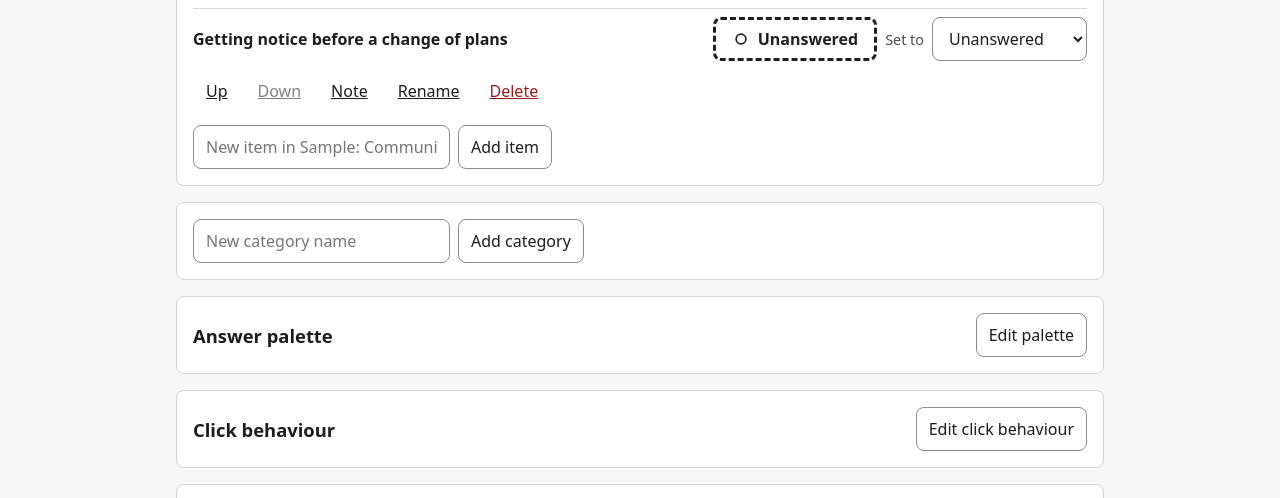
Test: renaming and restyling (I-03) › fixes the meaning of a built-in state
This screenshot has width=1280, height=498.
(page scrolled)
Click the button "Edit palette": [1031, 335] box [976,313,1087,357]
(page scrolled)
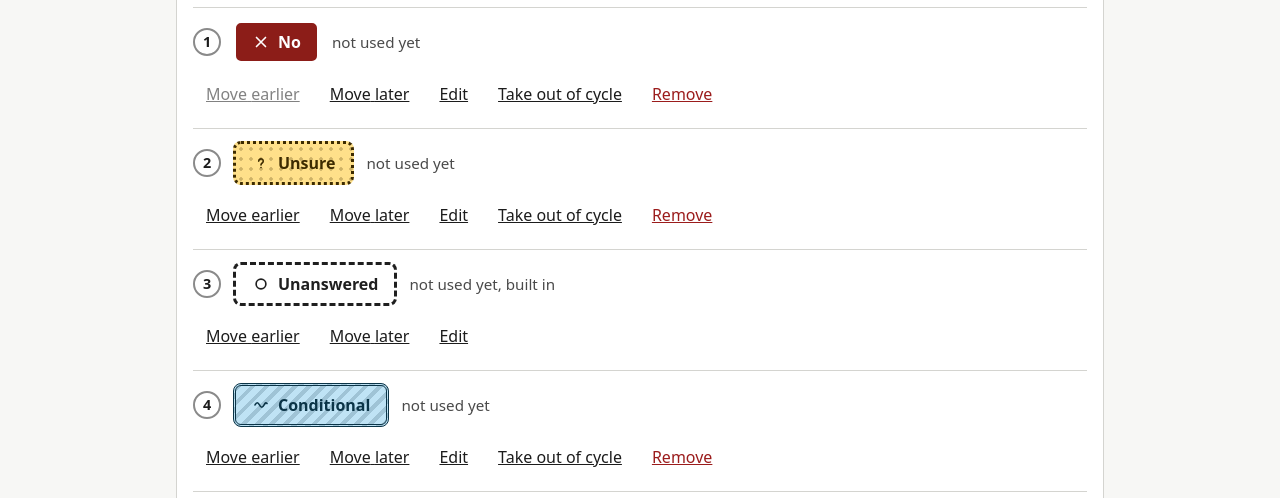
Click the button named "Edit Unanswered": [454, 336] box [426,314,481,358]
(page scrolled)
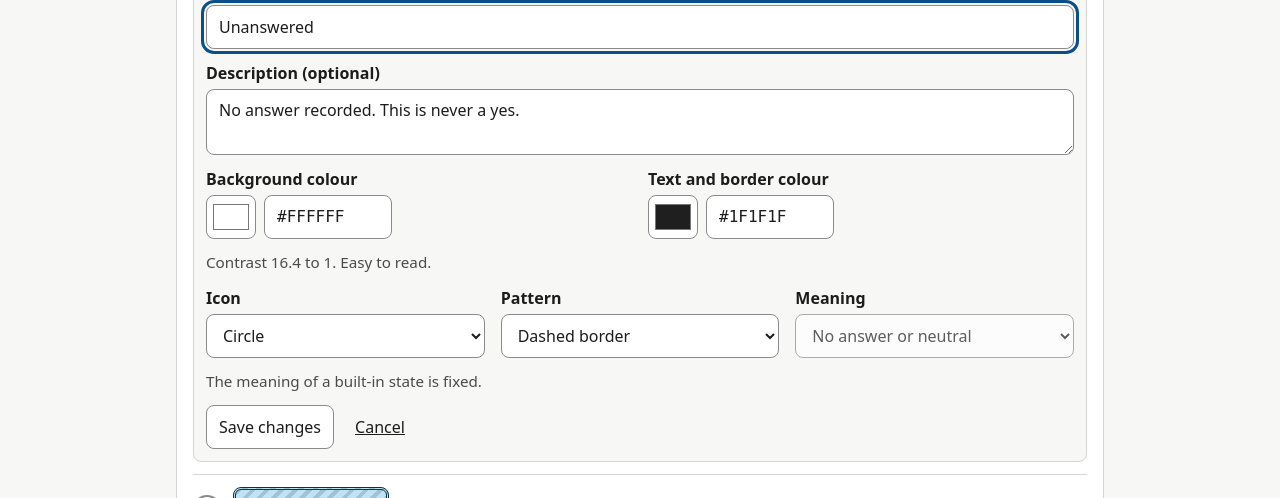
Expected: the dropdown labelled "Meaning" is disabled, [795,314,1074,358]
